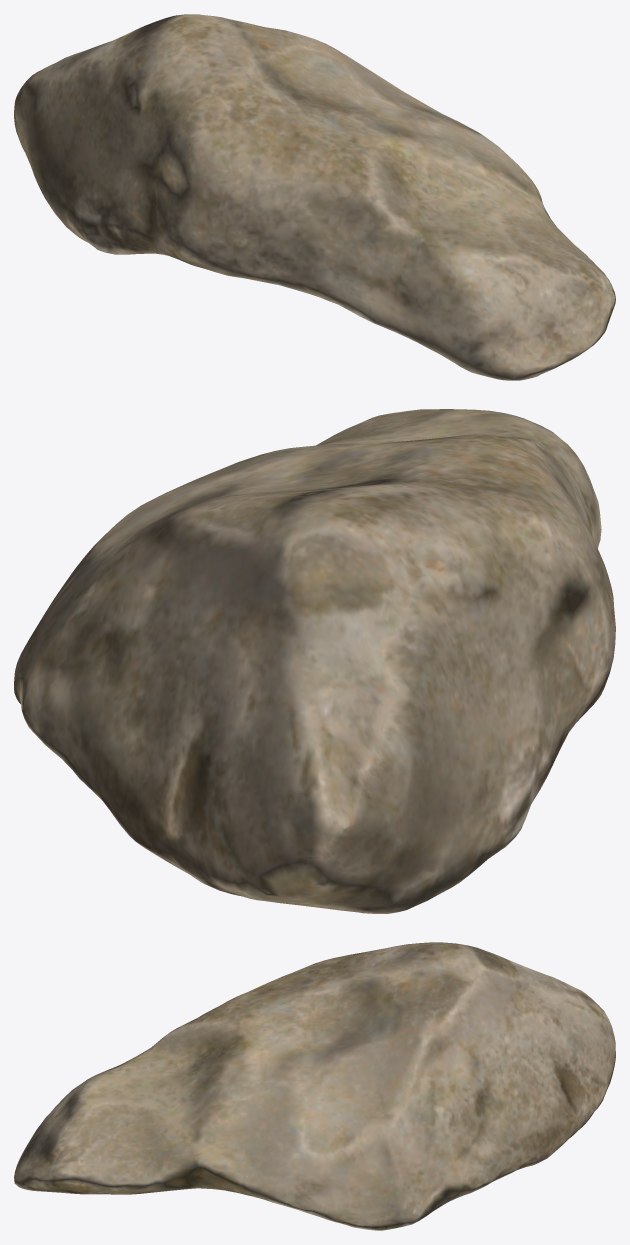
File: SM_Rock_C2.fbx
The picture shows the model from 3 angles, top to bottom: view 1: azimuth 30°, elevation 25°; view 2: azimuth 150°, elevation 25°; view 3: azimuth 270°, elevation 25°; orthographic projection. The views are drawn at different scales.
Visible parts, largest first — view 1: SM_Rock_C2_LOD0; view 2: SM_Rock_C2_LOD0; view 3: SM_Rock_C2_LOD0.
Boxes of the visible parts, box(x1,y1,x2,y2) form: SM_Rock_C2_LOD0: box(14, 14, 615, 380); SM_Rock_C2_LOD0: box(14, 409, 615, 913); SM_Rock_C2_LOD0: box(14, 942, 615, 1230).
Size of the model in its own units: 114 by 186 by 66.31.
1 material, 1 textured.
